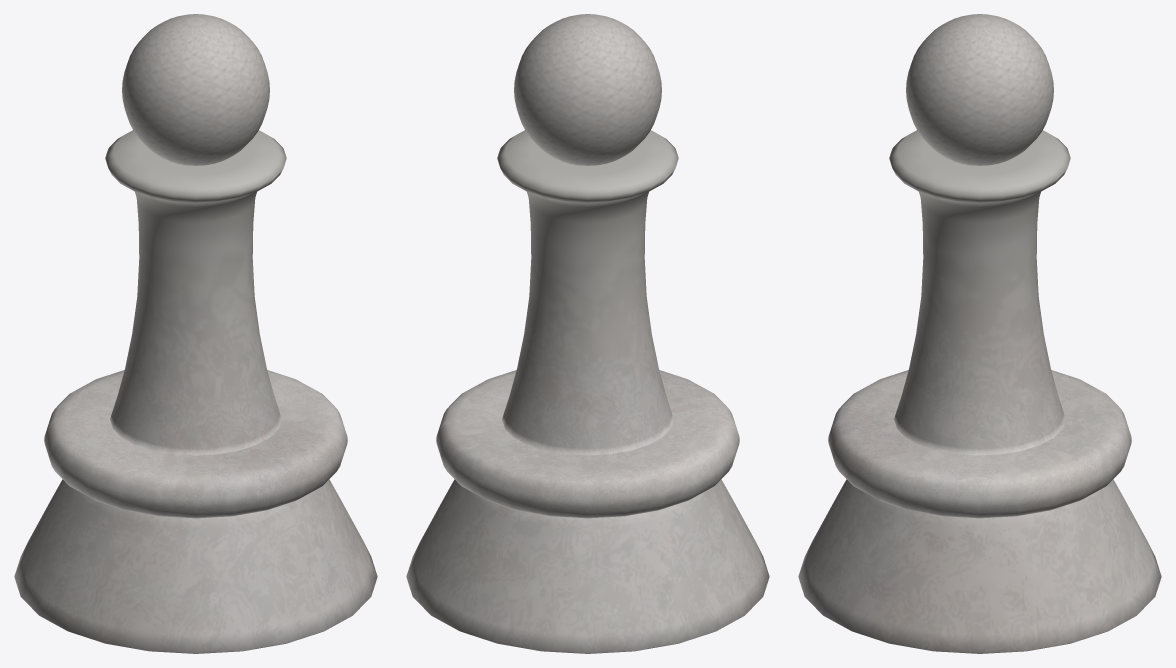
Rendered from pawn_white.obj.
The picture shows the model from 3 angles, left to right: view 1: azimuth 30°, elevation 25°; view 2: azimuth 150°, elevation 25°; view 3: azimuth 270°, elevation 25°; orthographic projection.
Parts seen in each view (by area): view 1: pie_Cylinder.002; view 2: pie_Cylinder.002; view 3: pie_Cylinder.002.
Part boxes in pixels (x1,y1,x2,y2): pie_Cylinder.002: (14, 14, 377, 653); pie_Cylinder.002: (406, 14, 769, 653); pie_Cylinder.002: (798, 14, 1161, 653).
Bounding box in the file's own units: 0.5931 × 1 × 0.5931.
1 material, 1 textured.
